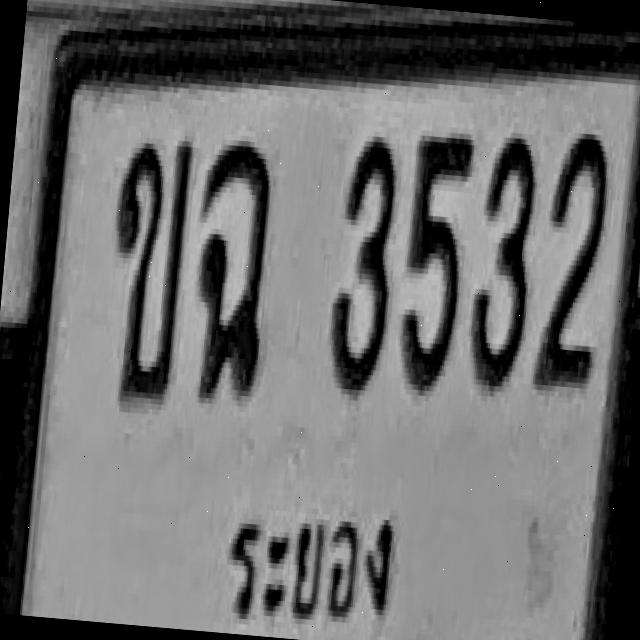11KhorKhai: (100, 132, 192, 408)
18ChorChing: (186, 138, 278, 402)
2: (534, 126, 612, 389)
3: (325, 131, 402, 394), (466, 128, 541, 391)
5: (396, 130, 474, 392)
Rayong: (210, 473, 402, 640)
